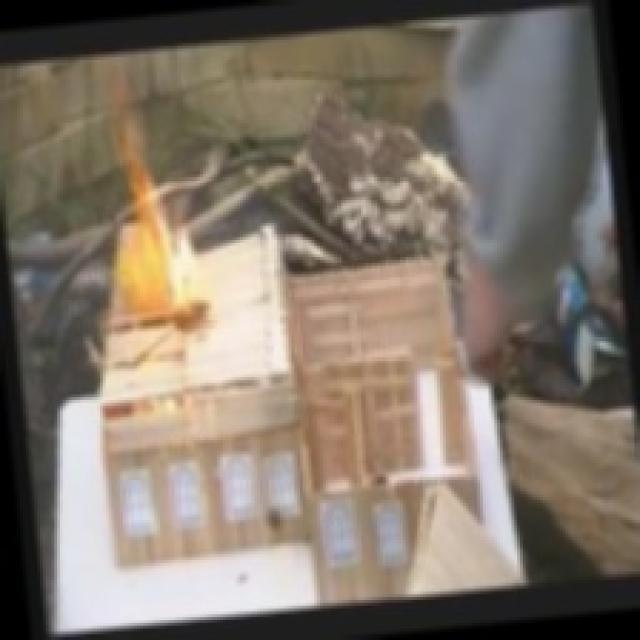fire: (54, 64, 226, 336)
